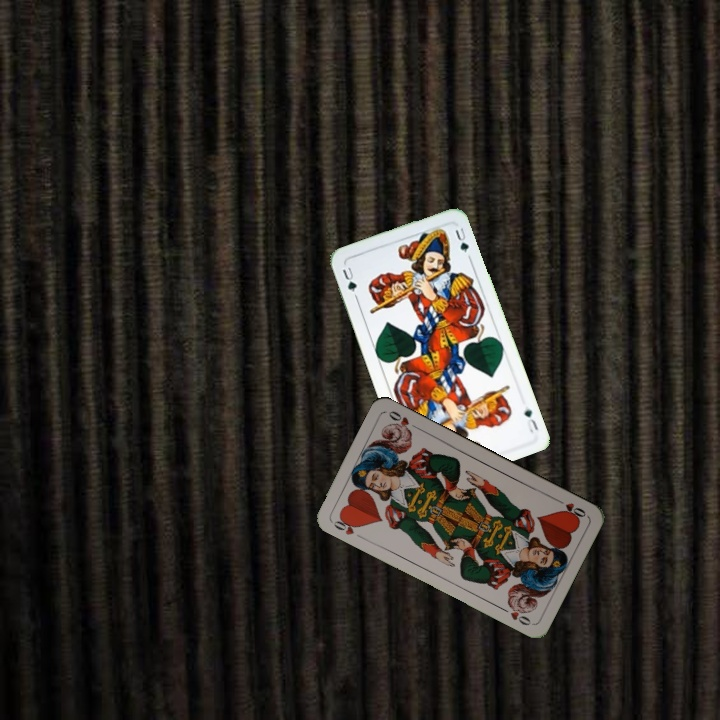GU: (338, 263, 359, 295), (520, 405, 541, 436)
HO: (551, 495, 589, 521), (328, 512, 362, 537)
